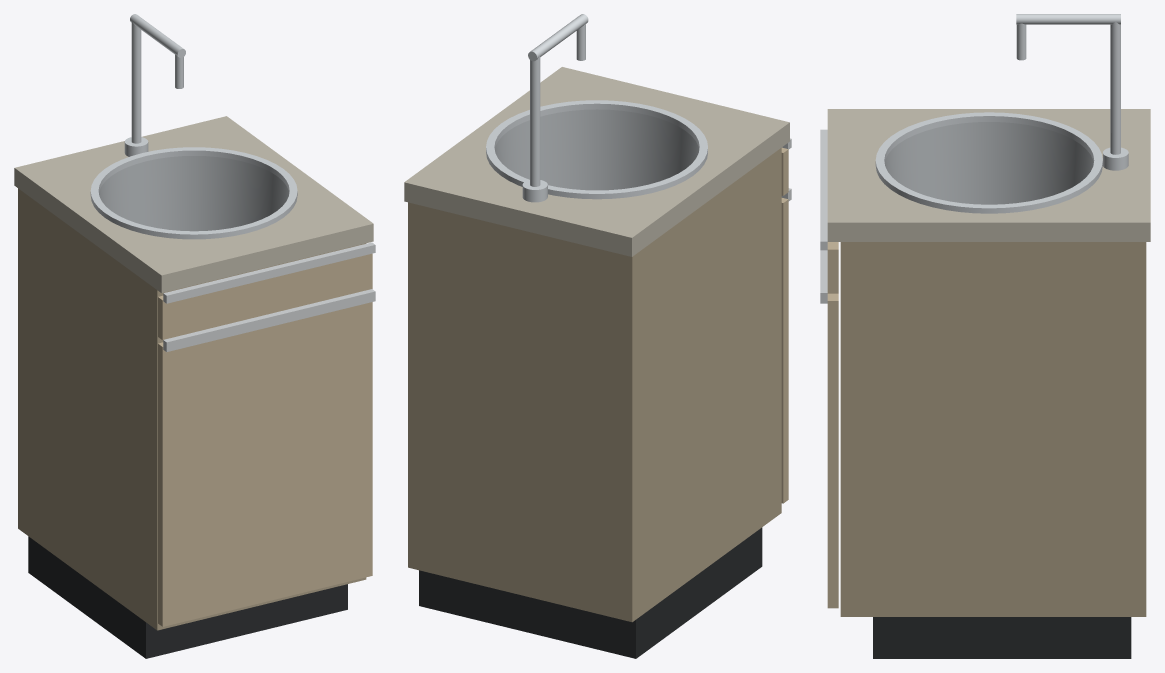
3 renders of one model, left to right at view 1: azimuth 30°, elevation 25°; view 2: azimuth 150°, elevation 25°; view 3: azimuth 270°, elevation 25°, orthographic. The views are drawn at different scales.
Visible parts, largest first — view 1: Door, Carcass, Worktop, BowlWall, Plinth, DrawerFront, Rails, Rim, Tap; view 2: Carcass, Worktop, Plinth, BowlWall, Rim, Tap, Door; view 3: Carcass, Worktop, BowlWall, Plinth, Rim, Door, Tap, Rails, DrawerFront.
Boxes of the visible parts, box(x1,y1,x2,y2) form: Door: box(158, 302, 372, 626); Carcass: box(18, 188, 366, 630); Worktop: box(14, 116, 373, 293); BowlWall: box(99, 156, 289, 231); Plinth: box(28, 536, 347, 658); DrawerFront: box(158, 253, 372, 340); Rails: box(163, 242, 375, 351); Rim: box(90, 147, 297, 239); Tap: box(124, 14, 185, 156); Carcass: box(408, 148, 781, 622); Worktop: box(404, 67, 789, 256); Plinth: box(419, 527, 762, 658); BowlWall: box(495, 109, 699, 190); Rim: box(486, 100, 707, 199); Tap: box(522, 14, 588, 202); Door: box(781, 198, 788, 503); Carcass: box(840, 242, 1146, 616); Worktop: box(827, 109, 1150, 241); BowlWall: box(884, 122, 1093, 204); Plinth: box(873, 617, 1131, 658); Rim: box(875, 112, 1102, 213); Door: box(827, 293, 838, 608); Tap: box(1016, 14, 1128, 170); Rails: box(820, 129, 827, 303); DrawerFront: box(827, 242, 838, 293).
Bounding box in the file's own units: 0.5 × 1.21 × 0.614.
